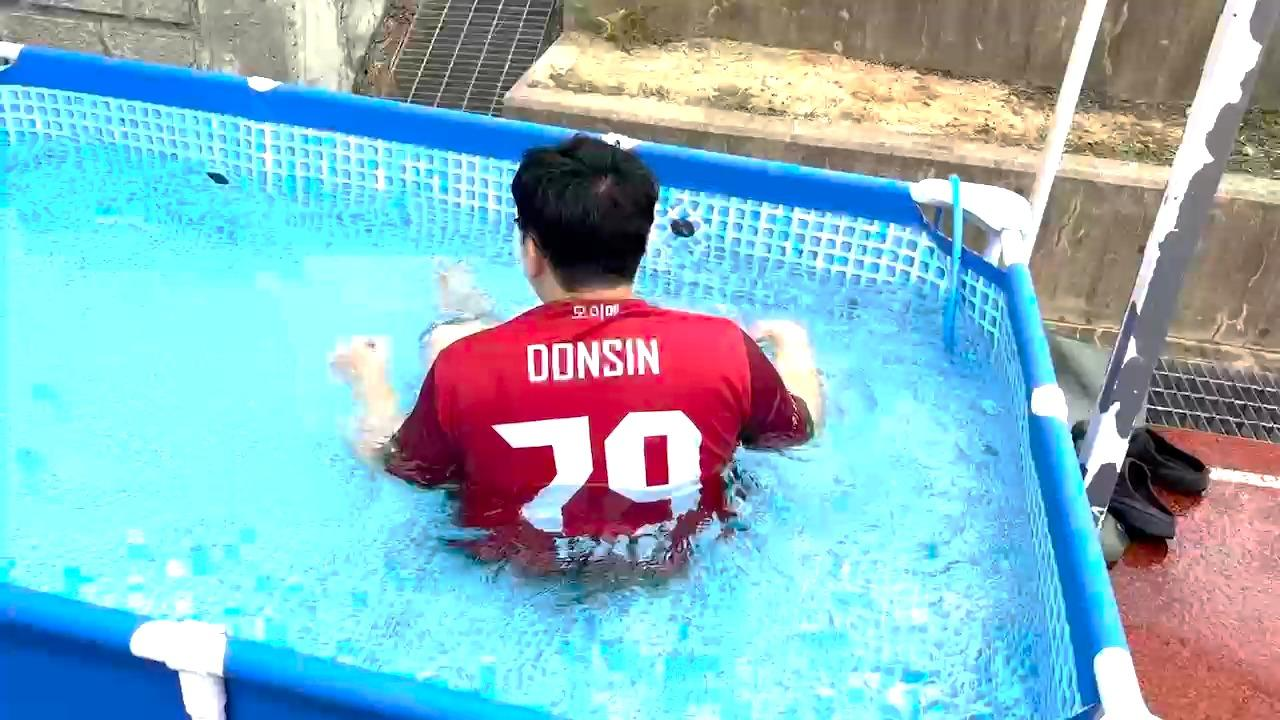Swimming: (309, 105, 836, 625)
